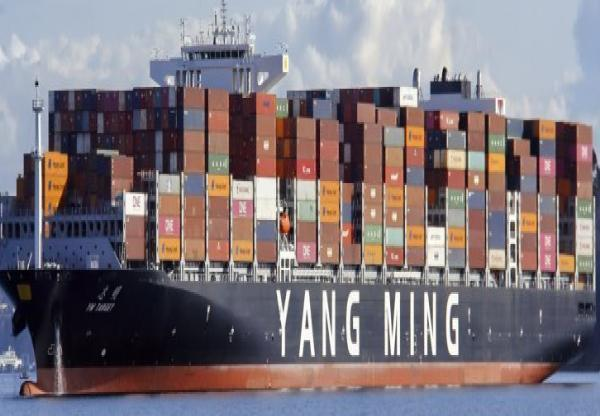Container Ship: (1, 1, 598, 397)
